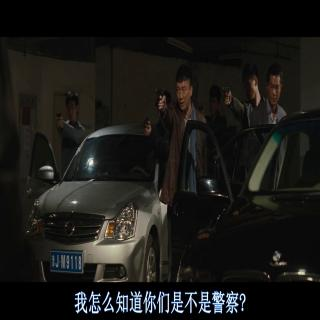gun: (154, 85, 166, 111), (140, 116, 152, 138), (220, 85, 232, 105), (55, 110, 63, 131)
